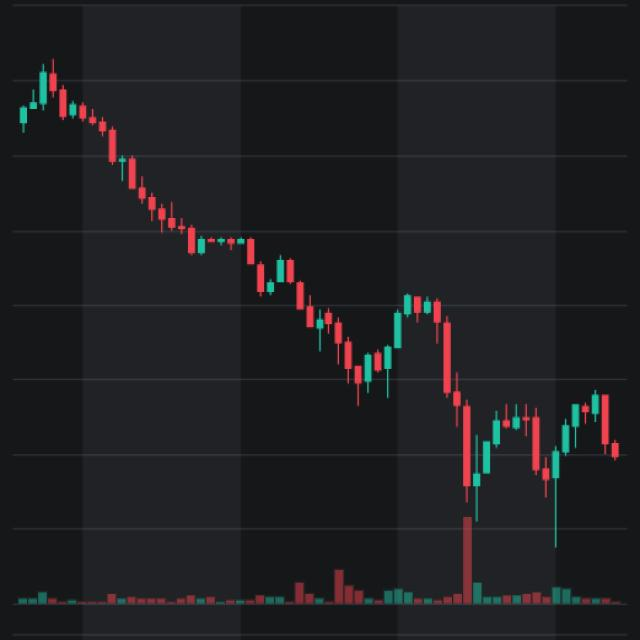Support-breakout: (26, 63, 367, 382)
